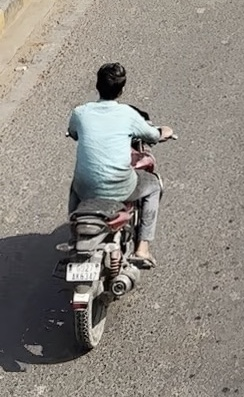BikeWithRider: (48, 60, 178, 354)
NoHelmet: (94, 62, 129, 105)
